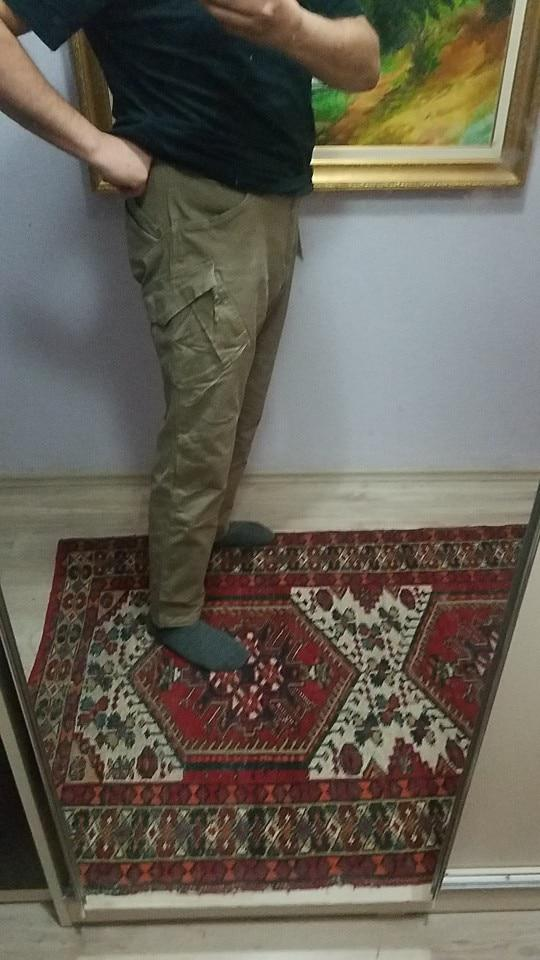pants: (121, 147, 300, 631)
